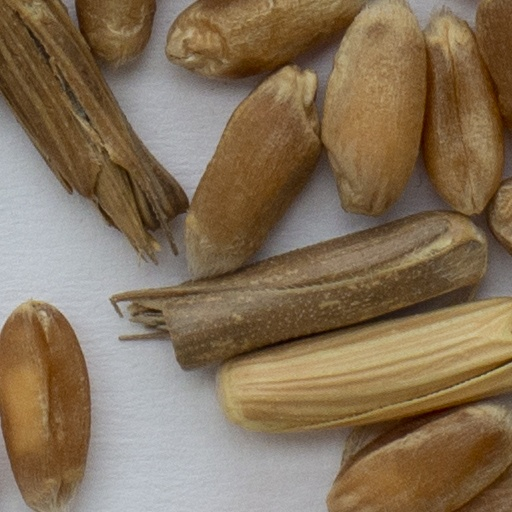Peel-poly: (105, 207, 490, 373), (0, 0, 191, 270), (216, 295, 511, 436)
Wheat-grain-poly: (0, 297, 95, 511), (477, 0, 511, 144)
